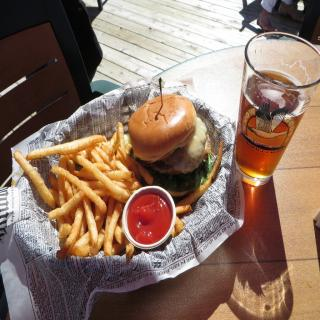French fries: (20, 115, 148, 264), (170, 139, 225, 237)
Hamburger: (127, 93, 211, 196)
